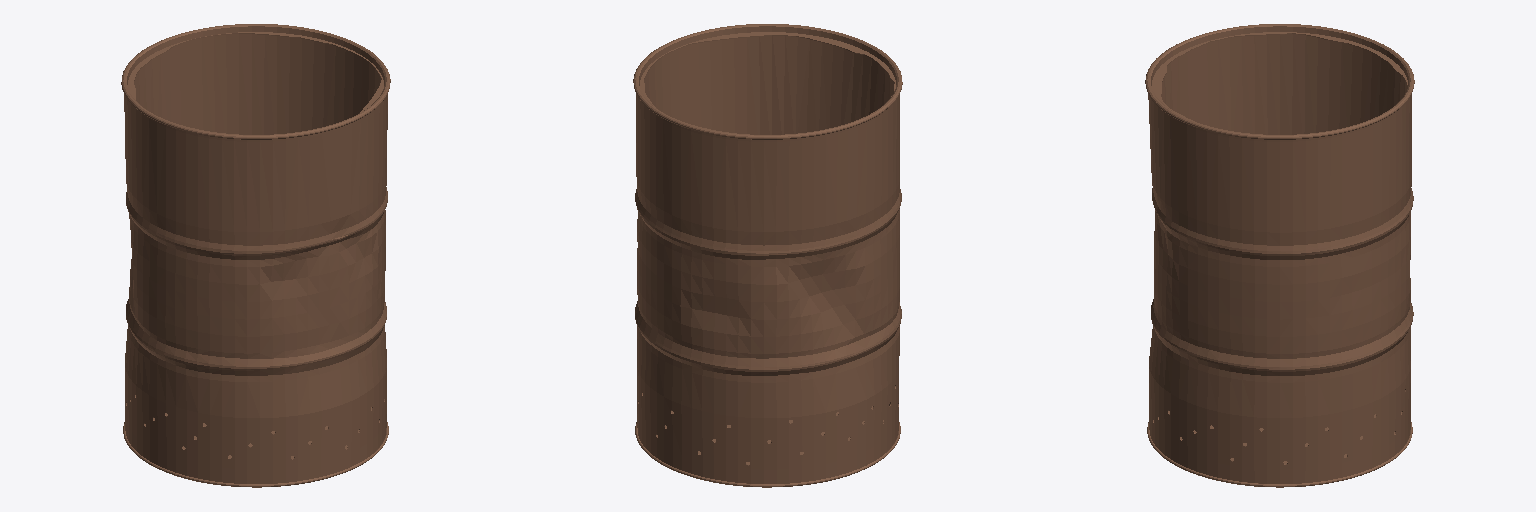
3 renders of one model, left to right at view 1: azimuth 30°, elevation 25°; view 2: azimuth 150°, elevation 25°; view 3: azimuth 270°, elevation 25°, orthographic.
Parts seen in each view (by area): view 1: barrel_stove; view 2: barrel_stove; view 3: barrel_stove.
Boxes of the visible parts, x1,y1,x2,y2 form: barrel_stove: [121, 24, 390, 487]; barrel_stove: [633, 24, 902, 487]; barrel_stove: [1145, 24, 1414, 487].
Size of the model in its own units: 0.5926 by 0.8556 by 0.5926.
Materials: 1 (1 with a texture image).